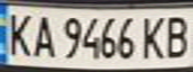4: (78, 13, 103, 60)
6: (115, 14, 142, 61), (100, 14, 121, 61)
9: (57, 12, 84, 60)
A: (27, 11, 57, 60)
B: (160, 12, 193, 60)
K: (0, 9, 36, 58), (136, 12, 169, 61)
